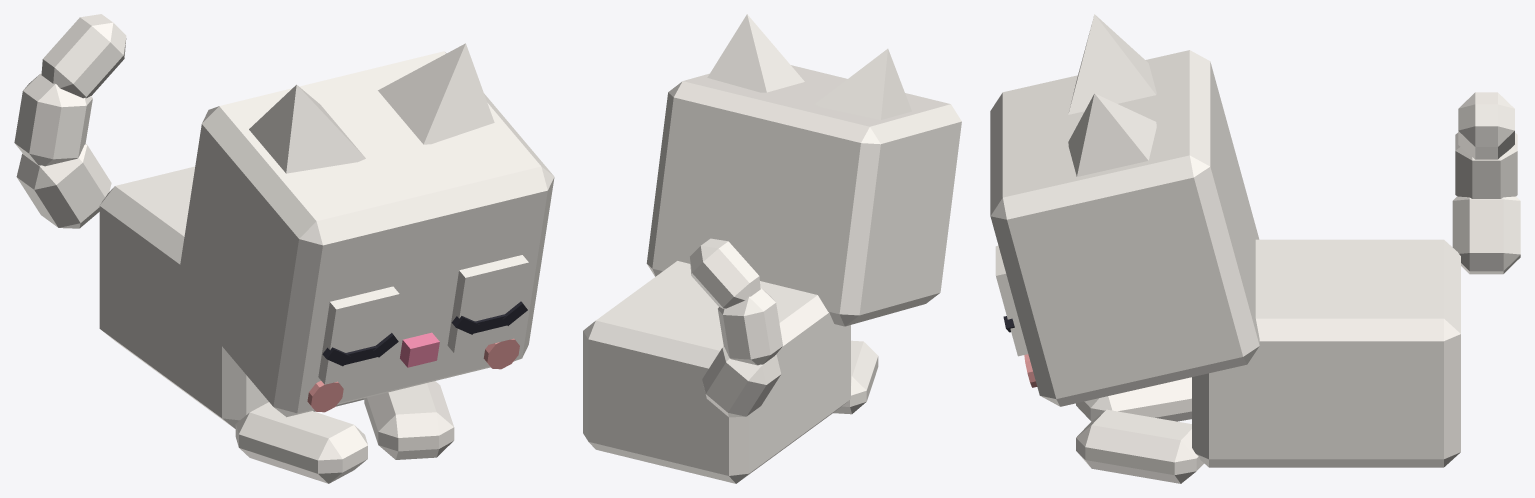
Rendered from CleanACat_Cat_Cotton_Loaf_Lite.fbx.
3 views of the same model, side by side, from view 1: azimuth 30°, elevation 25°; view 2: azimuth 150°, elevation 25°; view 3: azimuth 270°, elevation 25° (orthographic). The views are drawn at different scales.
Parts seen in each view (by area): view 1: CleanACat_Cat_Cotton_Loaf_Lite_Head, CleanACat_Cat_Cotton_Loaf_Lite_Body, CleanACat_Cat_Cotton_Loaf_Lite_Tail, CleanACat_Cat_Cotton_Loaf_Lite_Paws, CleanACat_Cat_Cotton_Loaf_Lite_EarL, CleanACat_Cat_Cotton_Loaf_Lite_Eye2, CleanACat_Cat_Cotton_Loaf_Lite_Eye1, CleanACat_Cat_Cotton_Loaf_Lite_EarR; view 2: CleanACat_Cat_Cotton_Loaf_Lite_Head, CleanACat_Cat_Cotton_Loaf_Lite_Body, CleanACat_Cat_Cotton_Loaf_Lite_Tail, CleanACat_Cat_Cotton_Loaf_Lite_EarL, CleanACat_Cat_Cotton_Loaf_Lite_EarR, CleanACat_Cat_Cotton_Loaf_Lite_Paws; view 3: CleanACat_Cat_Cotton_Loaf_Lite_Head, CleanACat_Cat_Cotton_Loaf_Lite_Body, CleanACat_Cat_Cotton_Loaf_Lite_Tail, CleanACat_Cat_Cotton_Loaf_Lite_Paws, CleanACat_Cat_Cotton_Loaf_Lite_EarL, CleanACat_Cat_Cotton_Loaf_Lite_EarR, CleanACat_Cat_Cotton_Loaf_Lite_Eye1.
Boxes of the visible parts, box(x1,y1,x2,y2) form: CleanACat_Cat_Cotton_Loaf_Lite_Head: box(176, 51, 554, 417); CleanACat_Cat_Cotton_Loaf_Lite_Body: box(99, 166, 364, 428); CleanACat_Cat_Cotton_Loaf_Lite_Tail: box(14, 14, 126, 228); CleanACat_Cat_Cotton_Loaf_Lite_Paws: box(235, 381, 454, 483); CleanACat_Cat_Cotton_Loaf_Lite_EarL: box(378, 43, 494, 144); CleanACat_Cat_Cotton_Loaf_Lite_Eye2: box(318, 286, 399, 384); CleanACat_Cat_Cotton_Loaf_Lite_Eye1: box(447, 255, 528, 353); CleanACat_Cat_Cotton_Loaf_Lite_EarR: box(249, 84, 365, 173); CleanACat_Cat_Cotton_Loaf_Lite_Head: box(646, 65, 961, 326); CleanACat_Cat_Cotton_Loaf_Lite_Body: box(583, 261, 850, 483); CleanACat_Cat_Cotton_Loaf_Lite_Tail: box(690, 238, 782, 417); CleanACat_Cat_Cotton_Loaf_Lite_EarL: box(707, 14, 804, 92); CleanACat_Cat_Cotton_Loaf_Lite_EarR: box(815, 48, 911, 119); CleanACat_Cat_Cotton_Loaf_Lite_Paws: box(833, 340, 878, 414); CleanACat_Cat_Cotton_Loaf_Lite_Head: box(990, 50, 1259, 406); CleanACat_Cat_Cotton_Loaf_Lite_Body: box(1192, 239, 1460, 467); CleanACat_Cat_Cotton_Loaf_Lite_Tail: box(1452, 92, 1520, 274); CleanACat_Cat_Cotton_Loaf_Lite_Paws: box(1076, 377, 1203, 483); CleanACat_Cat_Cotton_Loaf_Lite_EarL: box(1068, 93, 1156, 176); CleanACat_Cat_Cotton_Loaf_Lite_EarR: box(1068, 14, 1156, 114); CleanACat_Cat_Cotton_Loaf_Lite_Eye1: box(995, 245, 1028, 356).
Bounding box in the file's own units: 1.11 × 1.52 × 1.87.
1 material, 1 textured.
